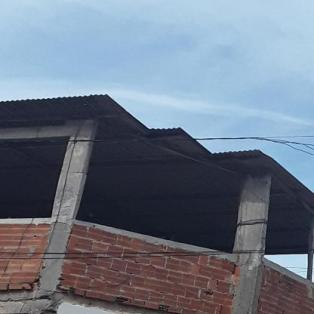Poste: (258, 111, 314, 314)
